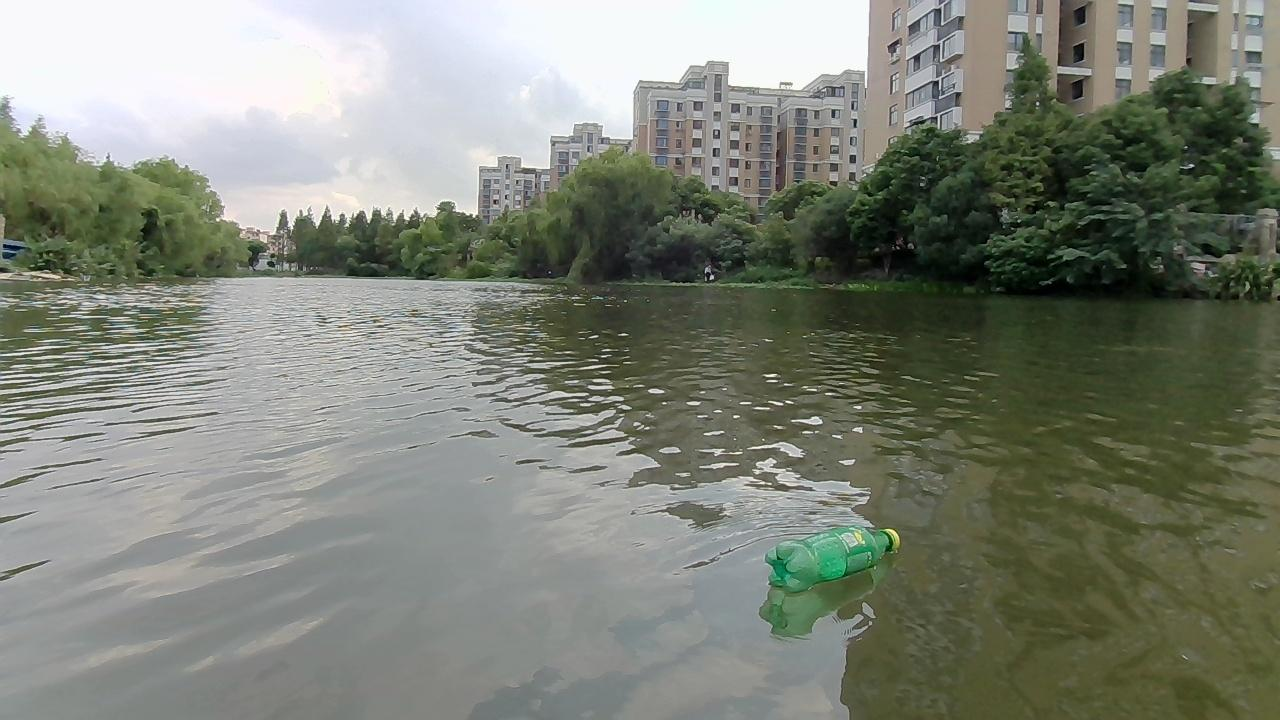bottle: (762, 515, 899, 595)
